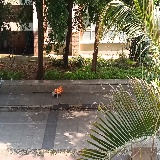fire: (54, 85, 63, 94)
